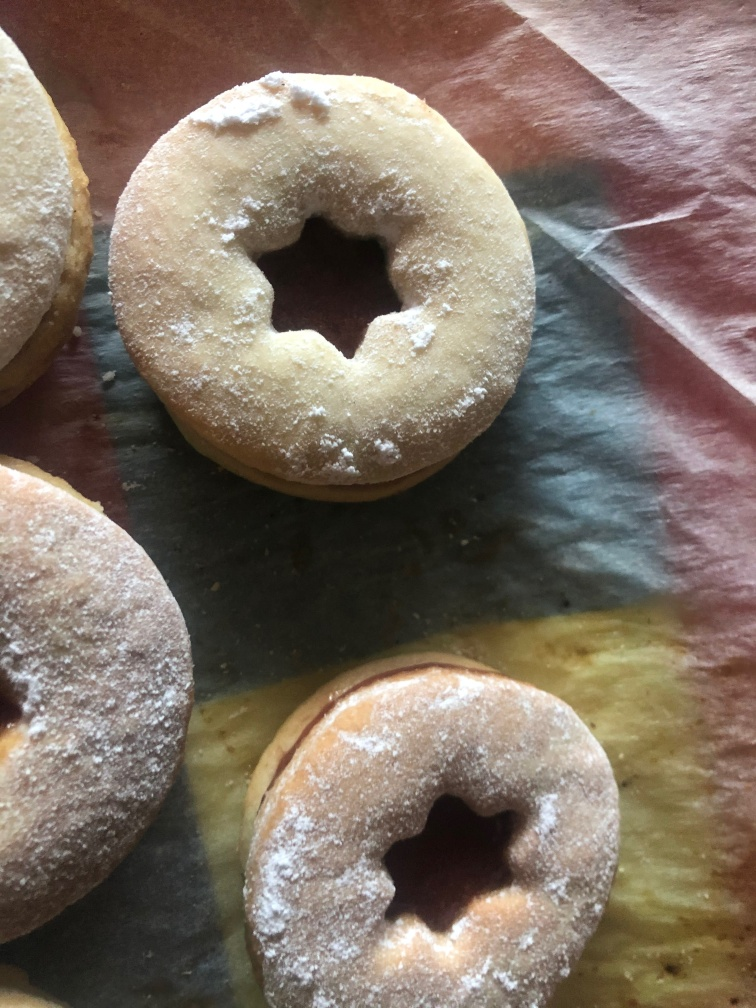christmas shortbread with jam: (109, 65, 537, 501), (242, 644, 619, 1007), (2, 443, 194, 945)
